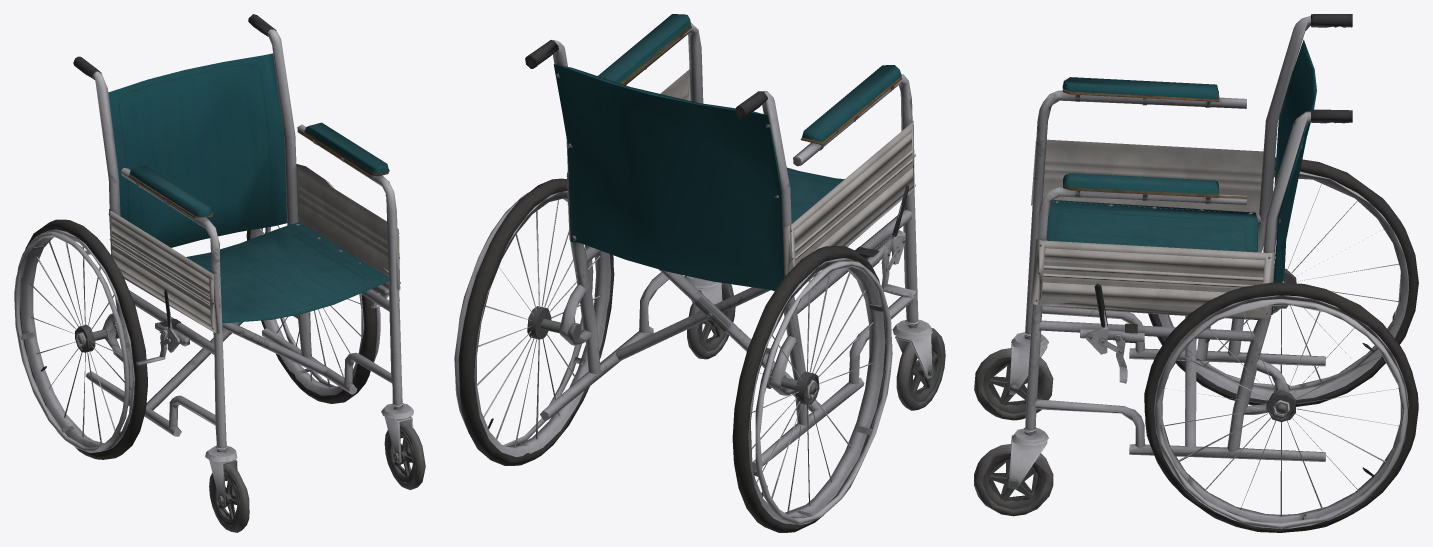
Rendered from wheelchair_01.glb.
3 views of the same model, side by side, from view 1: azimuth 30°, elevation 25°; view 2: azimuth 150°, elevation 25°; view 3: azimuth 270°, elevation 25° (orthographic). The views are drawn at different scales.
Visible parts, largest first — view 1: wheelchair_01; view 2: wheelchair_01; view 3: wheelchair_01.
Boxes of the visible parts, bbox=[...] form: wheelchair_01: bbox=[14, 14, 425, 532]; wheelchair_01: bbox=[454, 14, 945, 532]; wheelchair_01: bbox=[974, 14, 1418, 532].
Size of the model in its own units: 0.824 by 1.1 by 1.09.
1 material, 1 textured.
